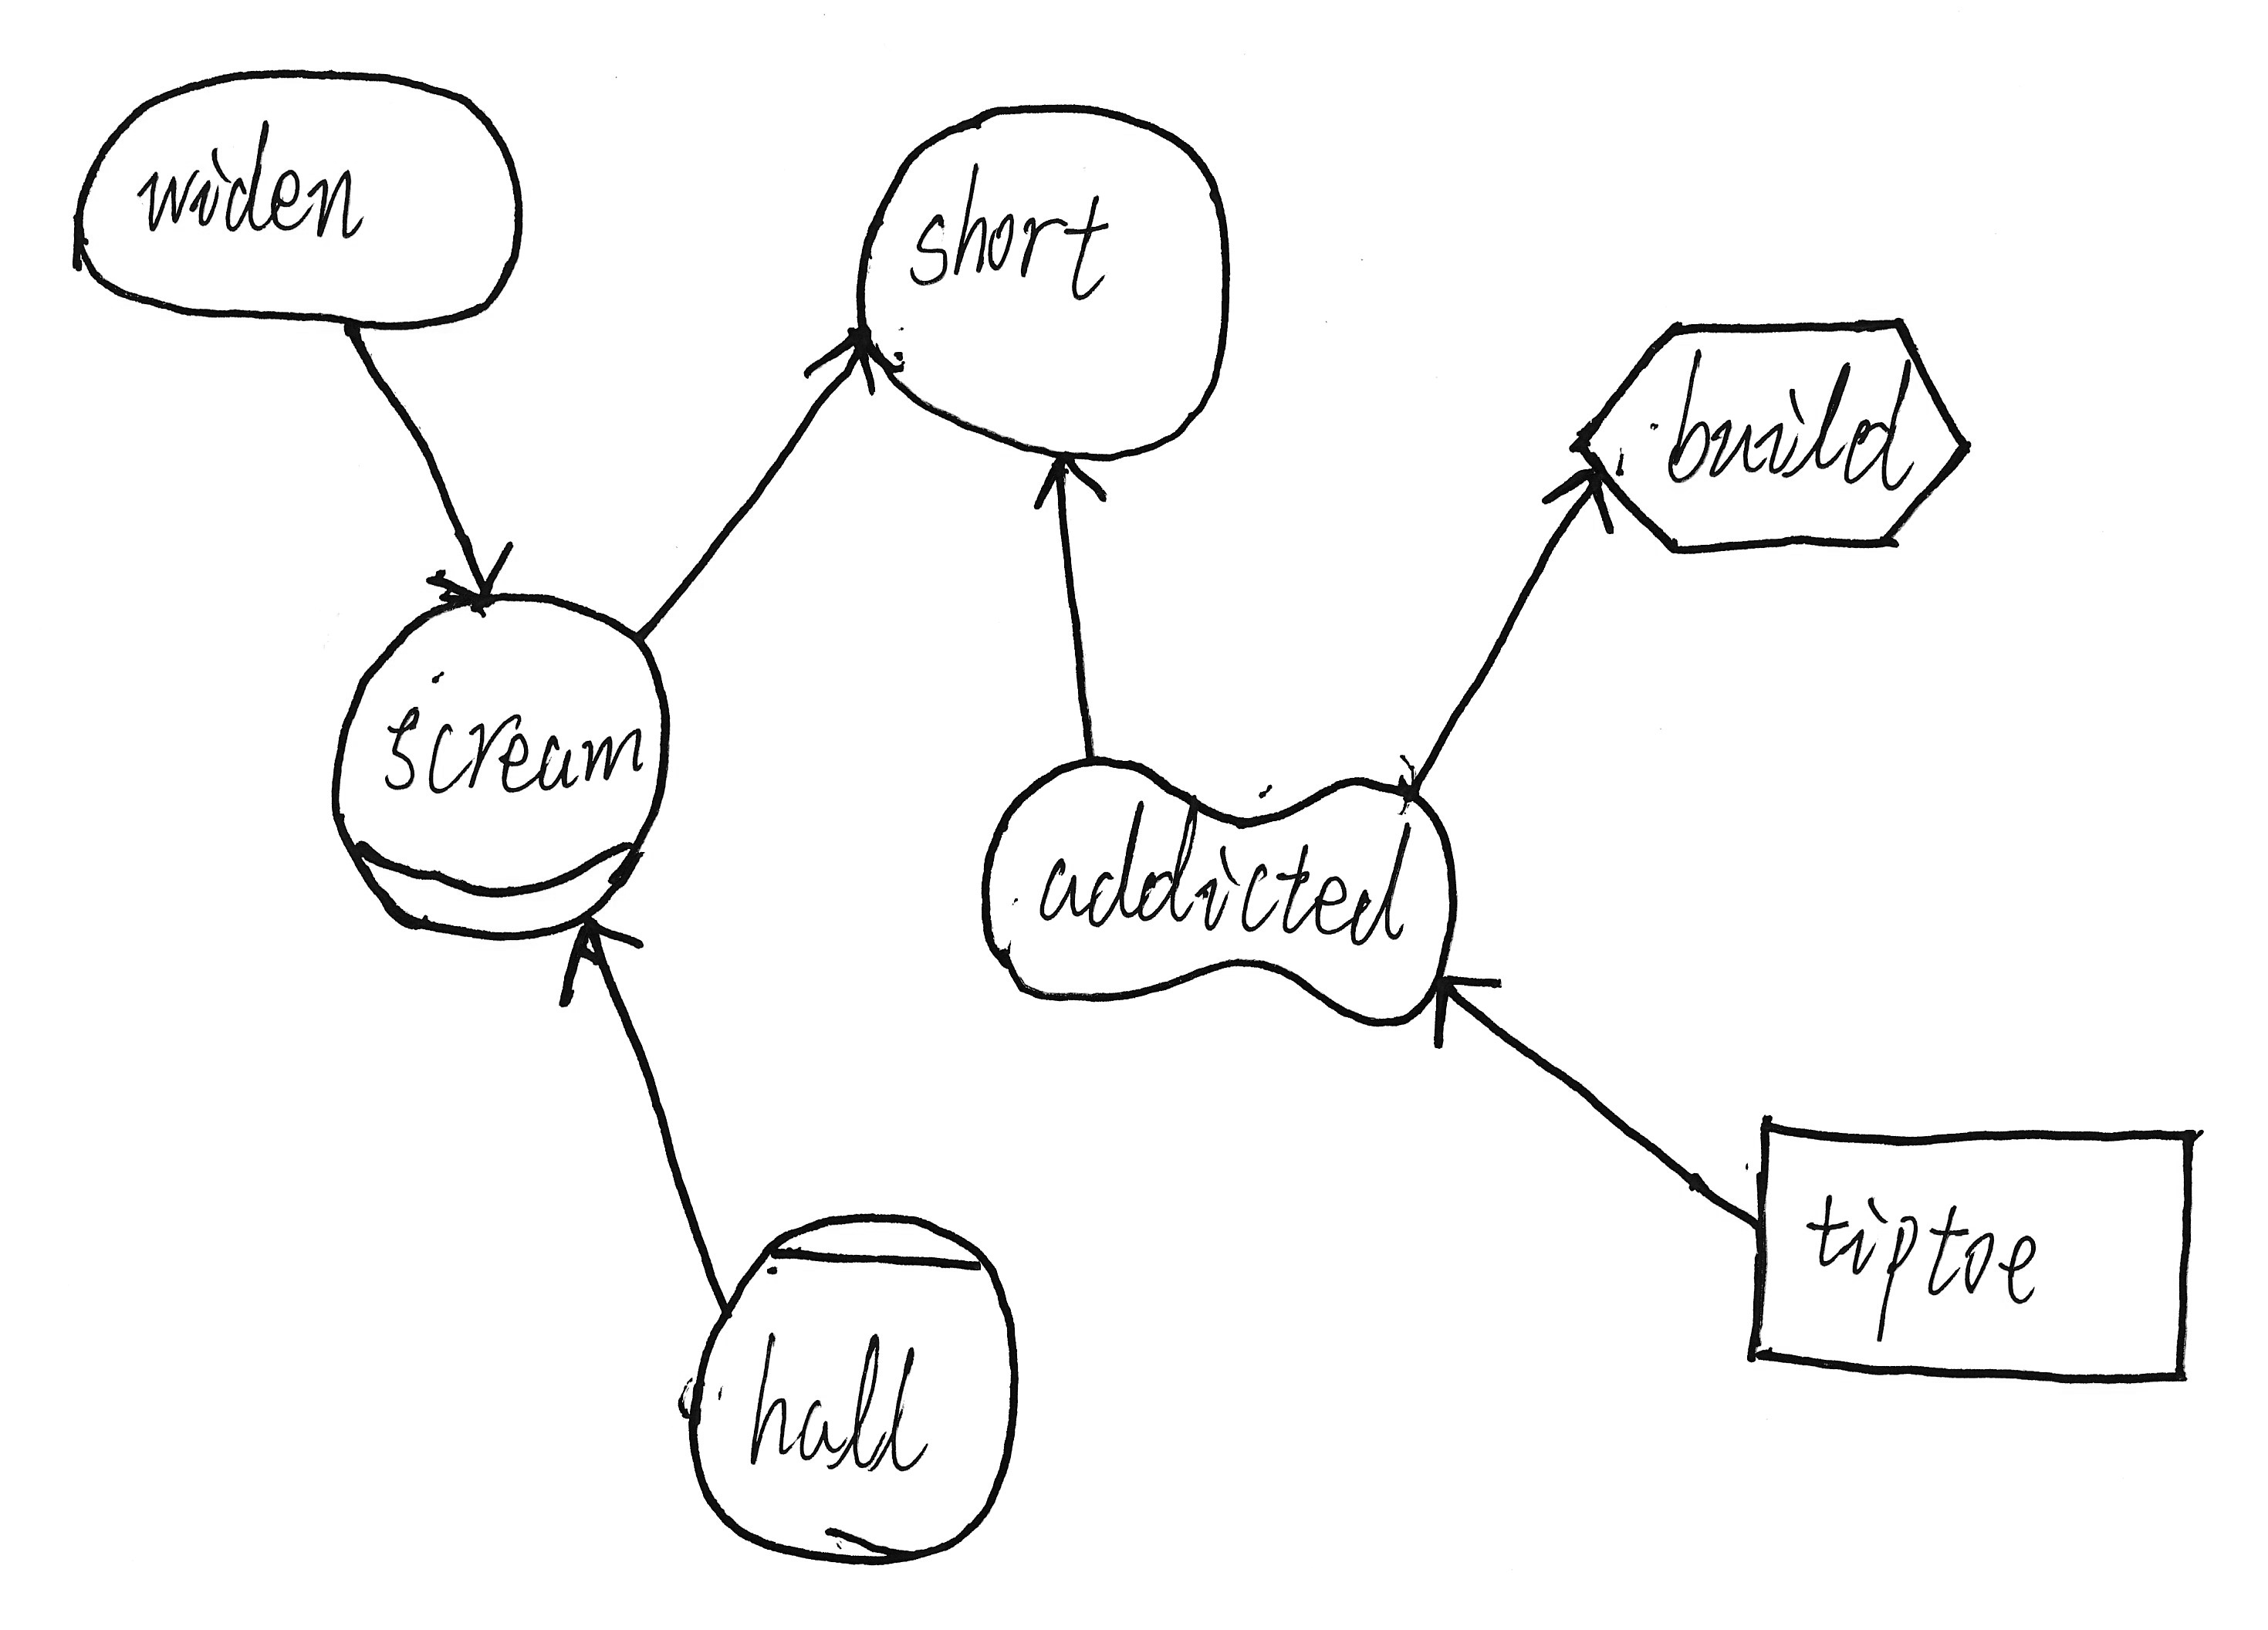actor: (838, 84, 1257, 472)
agent: (666, 1195, 1032, 1582)
arrow: (403, 519, 532, 621), (541, 908, 657, 1017), (1418, 959, 1521, 1070), (791, 308, 886, 426), (1532, 452, 1625, 551), (1013, 442, 1116, 526)
goal: (56, 53, 541, 349)
quality: (961, 741, 1472, 1047)
resource: (1731, 1095, 2219, 1403)
role: (313, 579, 692, 959)
task: (1553, 303, 1995, 574)
